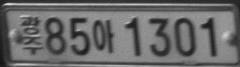0: (172, 16, 196, 57)
1: (198, 16, 221, 57), (122, 16, 145, 56)
3: (147, 16, 172, 57)
5: (68, 16, 91, 56)
8: (44, 15, 67, 55)
광주_V: (20, 15, 44, 55)
아: (91, 19, 115, 53)
